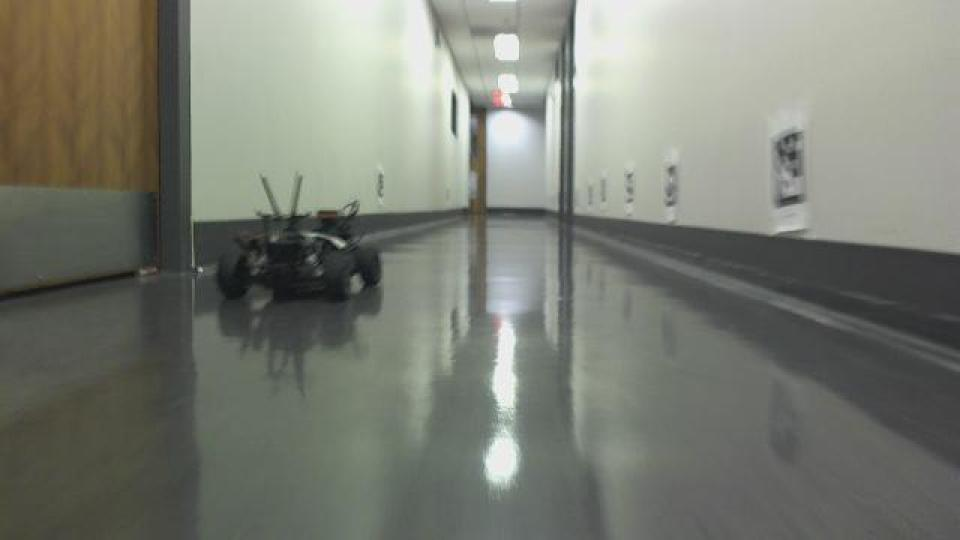car: (212, 170, 384, 306)
